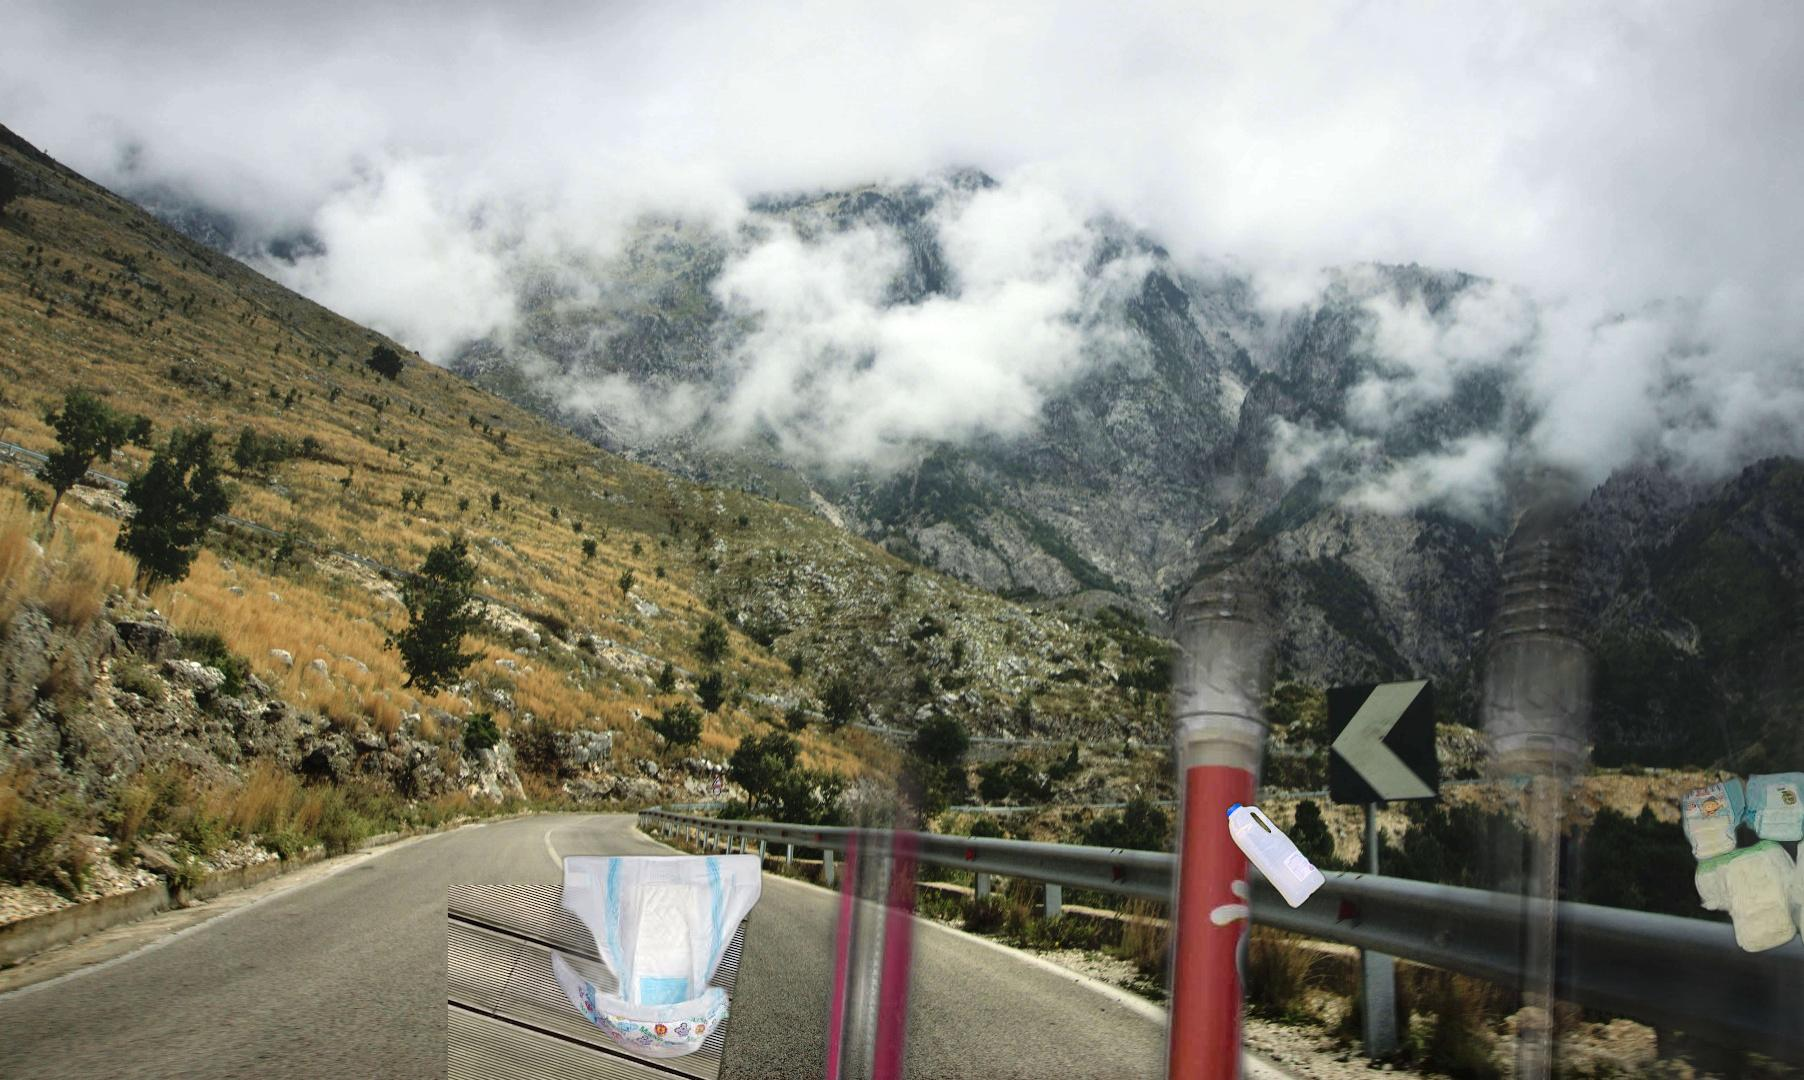metal-cans: (447, 885, 824, 1080)
penholder: (104, 396, 1804, 1080)
plastic-bottles: (1223, 797, 1330, 915)
trash: (546, 850, 780, 1061), (1675, 762, 1804, 958)
